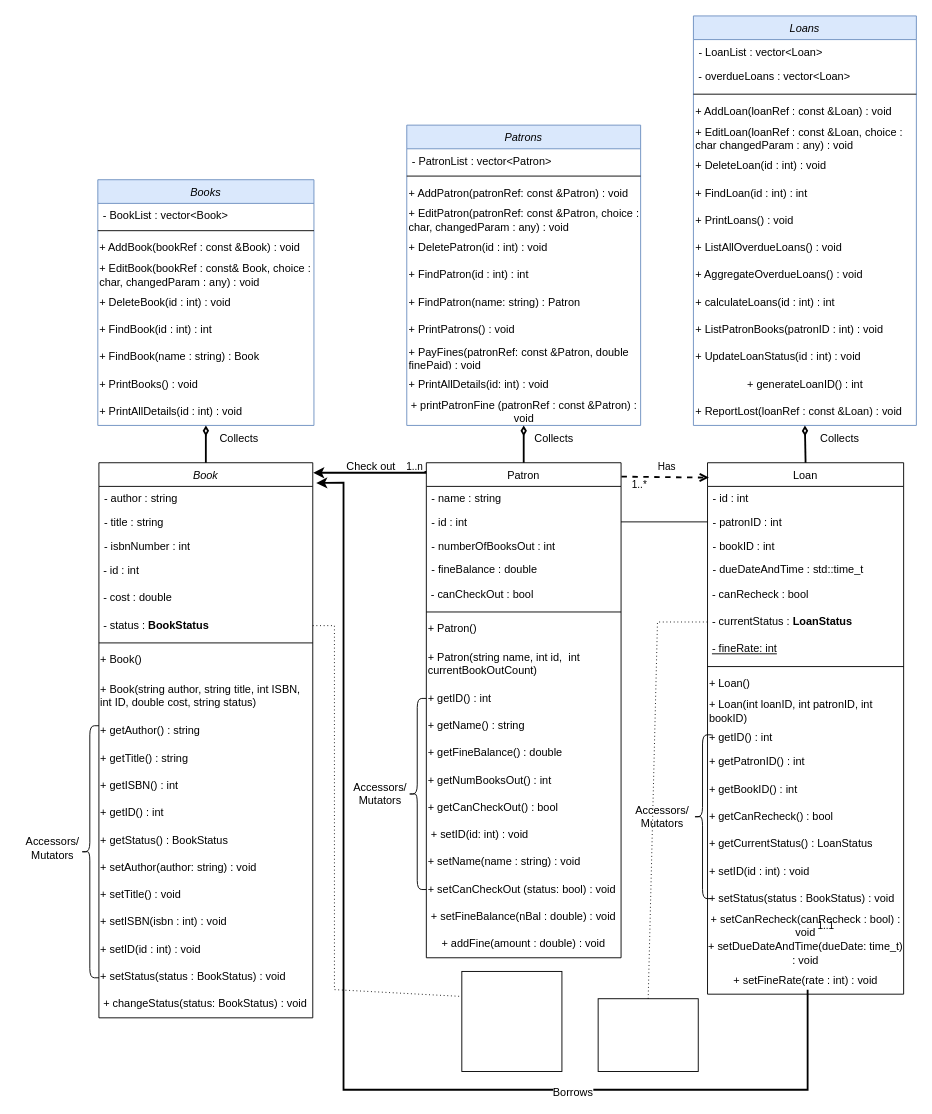
The diagram is 932 pixels wide and 1114 high, and some of its shapes have lost their labels. Each missing label, with the centre of its shape:
"<<enumeration>> BookStatus IN OUT REPAIR LOST" goes at (x=511, y=1021).
"<<enumeration>> LoanStatus NORMAL OVERDUE" goes at (x=647, y=1035).
